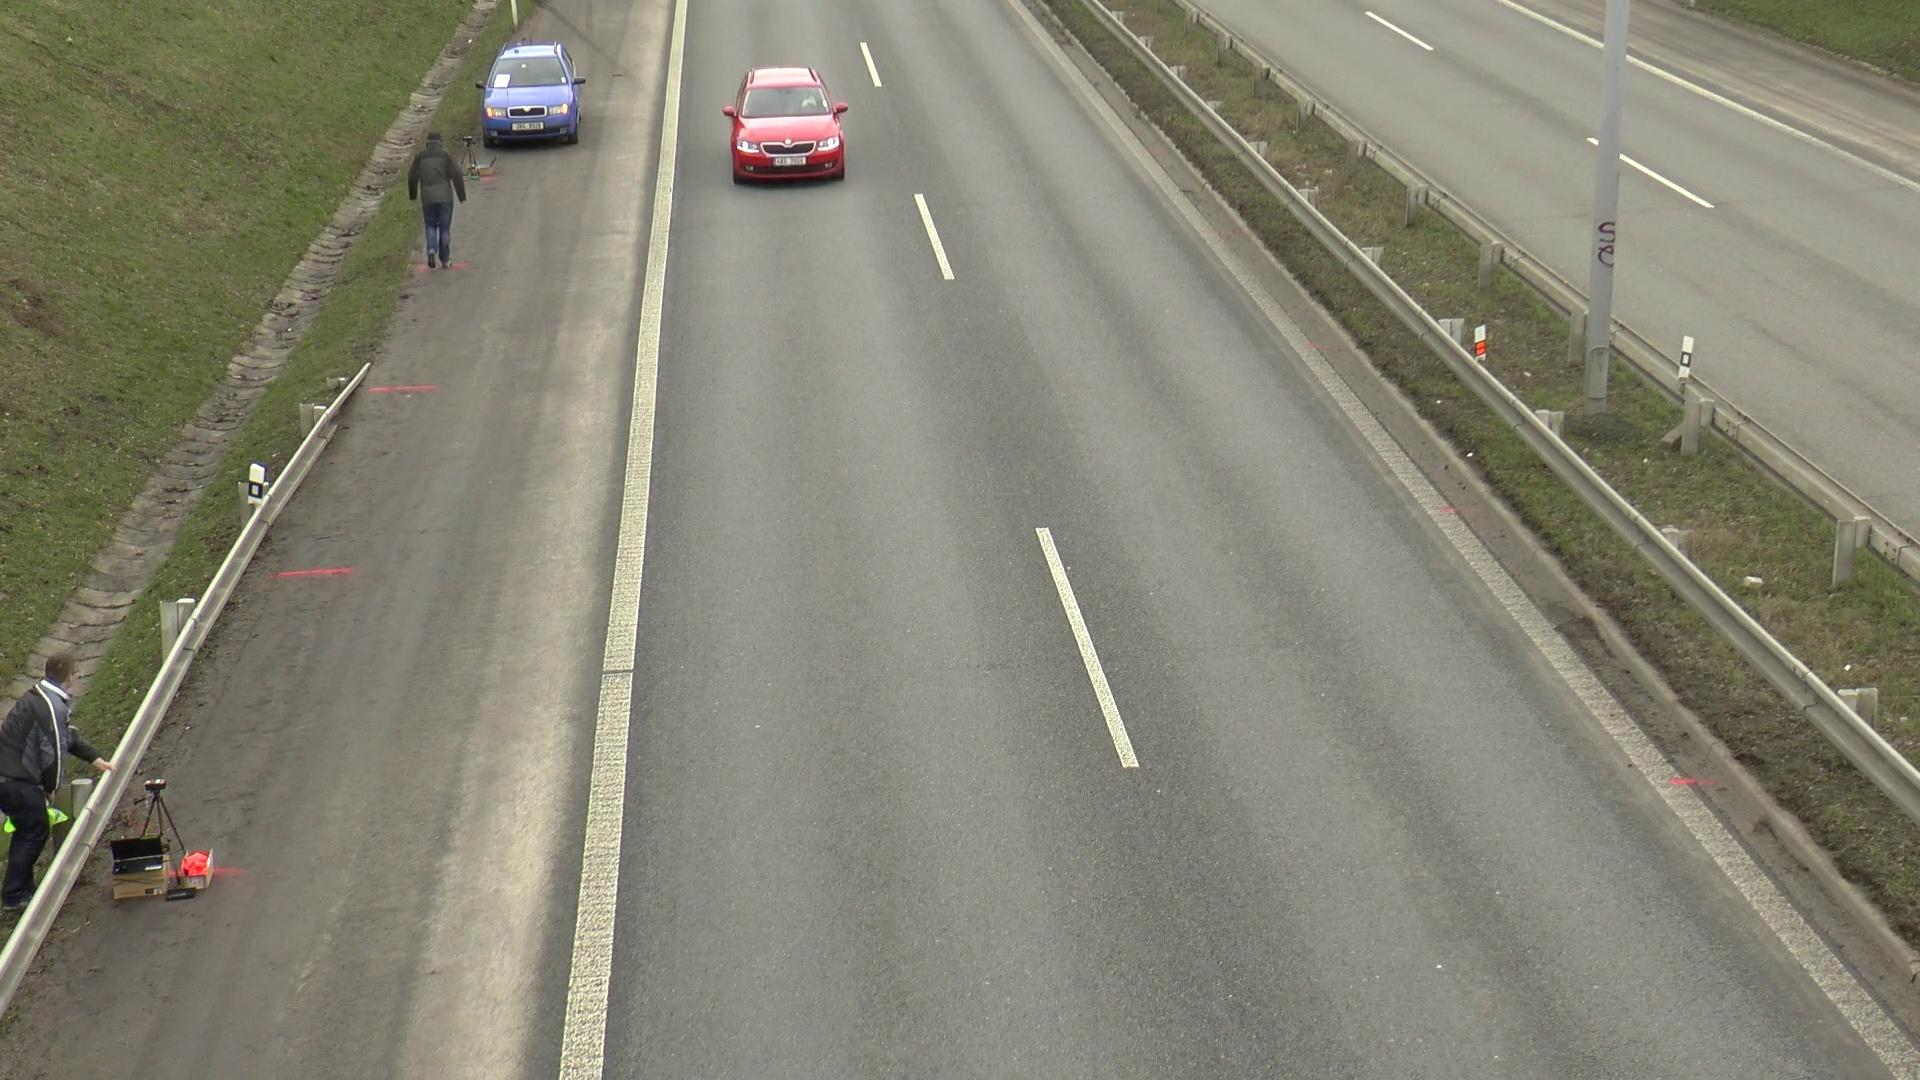Car: (728, 66, 850, 199), (482, 40, 595, 172)
Human: (16, 638, 96, 921), (396, 146, 466, 283)
